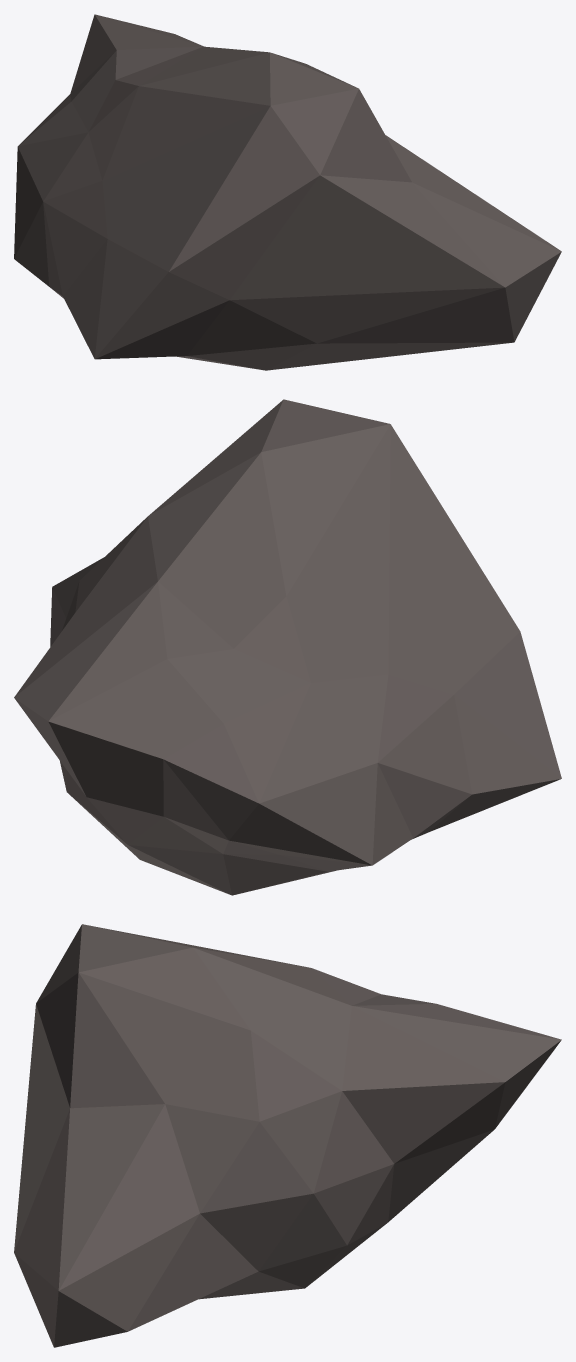
File: Rock 2.fbx
3 views of the same model, one above another, from view 1: azimuth 30°, elevation 25°; view 2: azimuth 150°, elevation 25°; view 3: azimuth 270°, elevation 25° (orthographic). The views are drawn at different scales.
Visible parts, largest first — view 1: Rock 2; view 2: Rock 2; view 3: Rock 2.
Part boxes in pixels (x1,y1,x2,y2): Rock 2: (14,14,561,370); Rock 2: (14,399,561,895); Rock 2: (14,924,561,1347).
Bounding box in the file's own units: 68.84 × 48.05 × 69.94.
